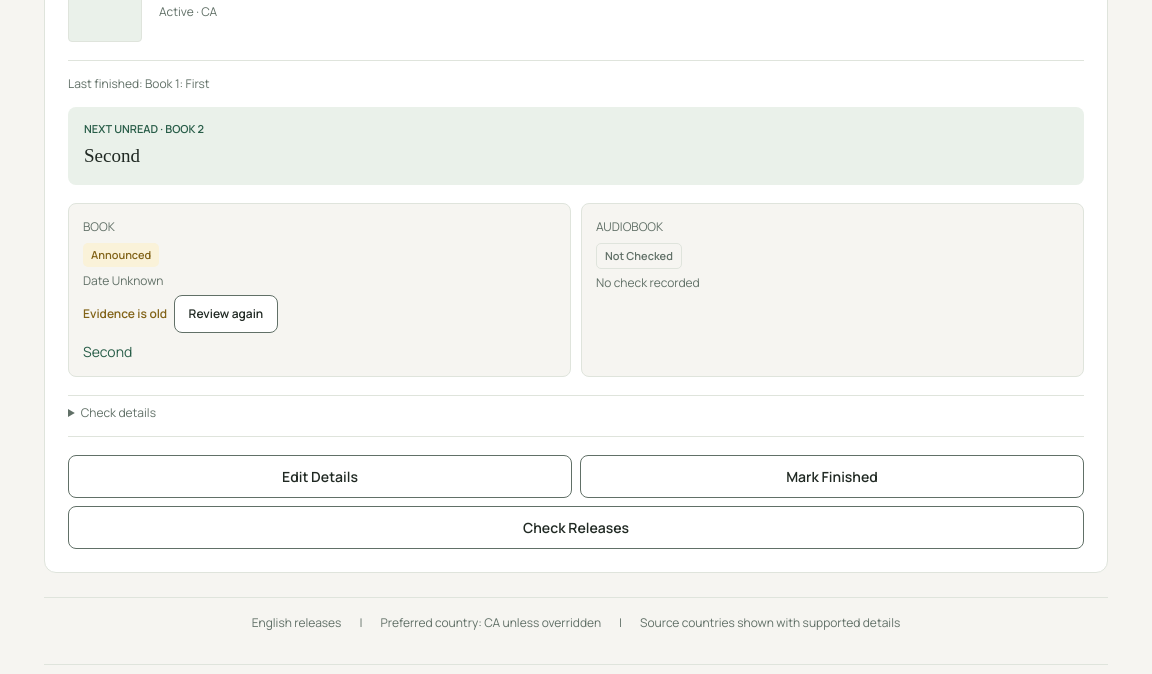
Test case: an old Hardcover announcement shows a notice, and Review again opens the check without a request or any change
The width and height of the screenshot is (1152, 674).
(page scrolled)
Expected: the text "Evidence is old Review again" is shown, 83,295 -> 278,333
Expected: the text "Announced" is shown, 83,242 -> 159,267
Click the button with aria-label "Review book announcement again" at (226, 314), box 174,295 -> 278,333
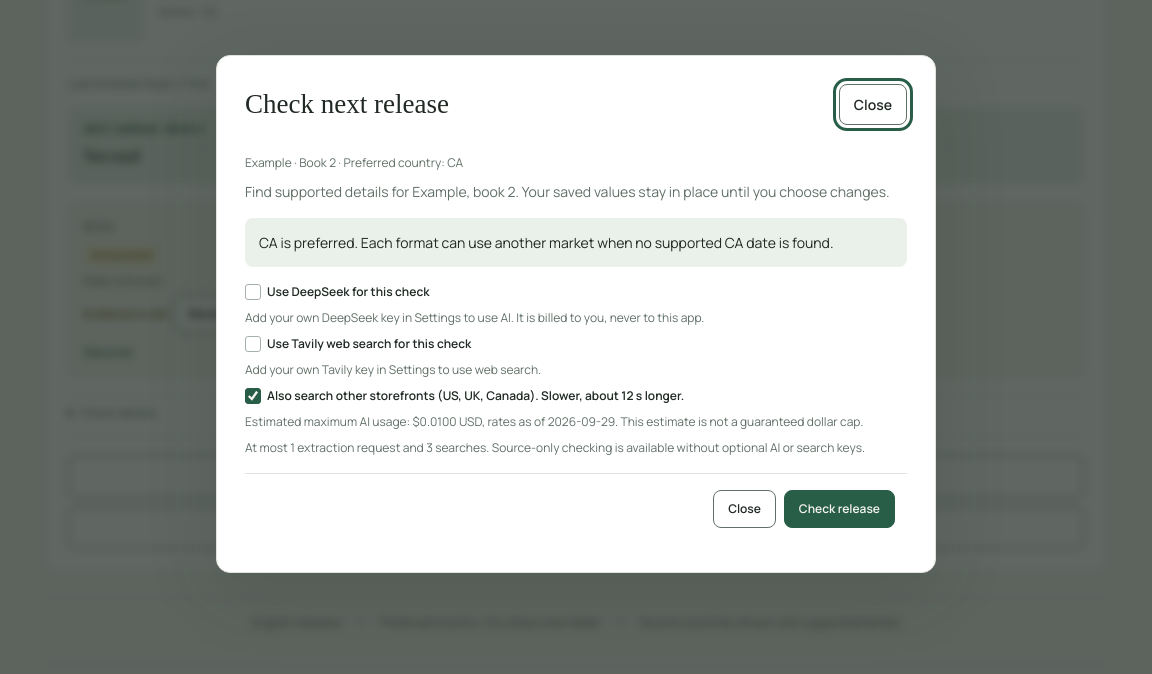
Now the heading "Check next release" is shown, box 245,84 -> 449,125
